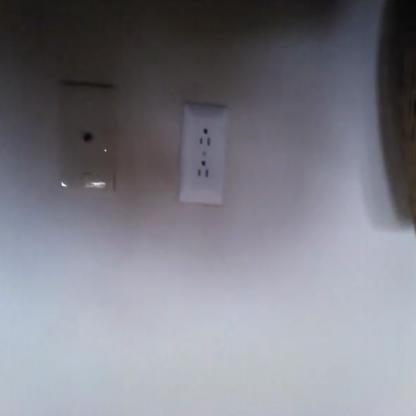OUTLET: (178, 108, 228, 204)
